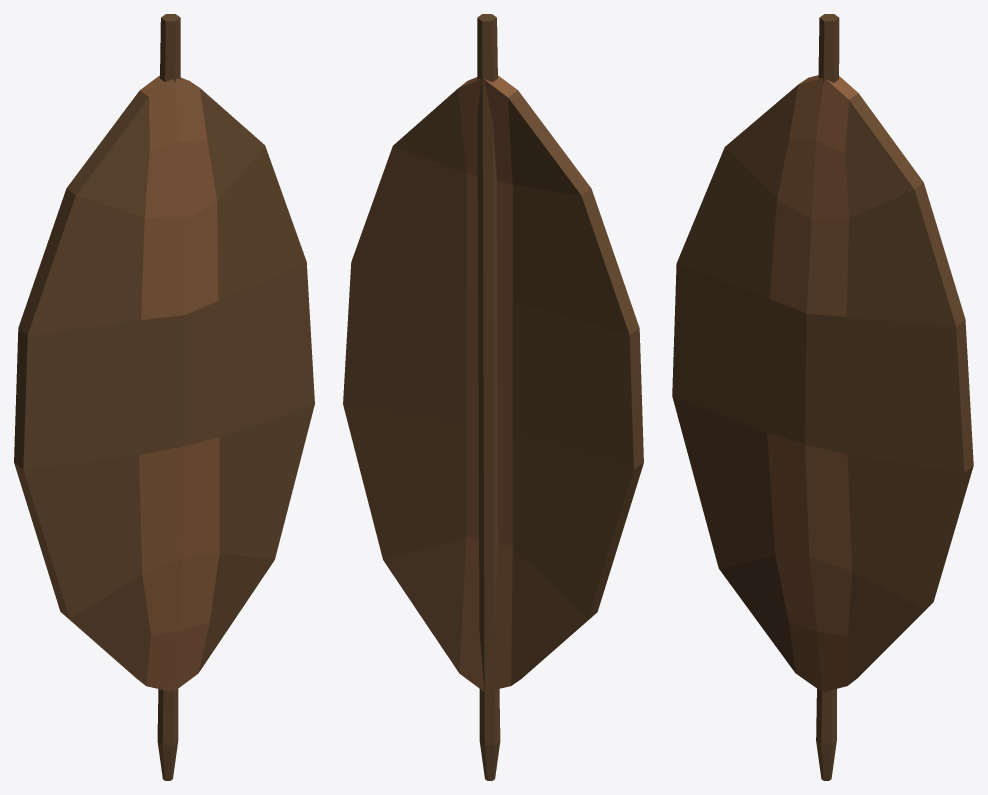
The model's file is shield-zulu.glb.
The picture shows the model from 3 angles, left to right: view 1: azimuth 30°, elevation 25°; view 2: azimuth 150°, elevation 25°; view 3: azimuth 330°, elevation 25°; orthographic projection.
Parts seen in each view (by area): view 1: shield-zulu; view 2: shield-zulu; view 3: shield-zulu.
Part boxes in pixels (bbox=[...]): shield-zulu: bbox=[14, 14, 314, 780]; shield-zulu: bbox=[343, 14, 643, 780]; shield-zulu: bbox=[672, 14, 973, 780].
Bounding box in the file's own units: 0.7486 × 1.87 × 0.1069.
1 material, 1 textured.
